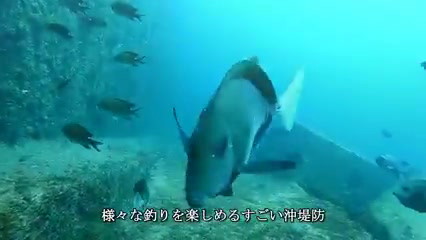mezina: (95, 95, 148, 126), (58, 120, 103, 154), (109, 2, 149, 22), (110, 48, 147, 67)
